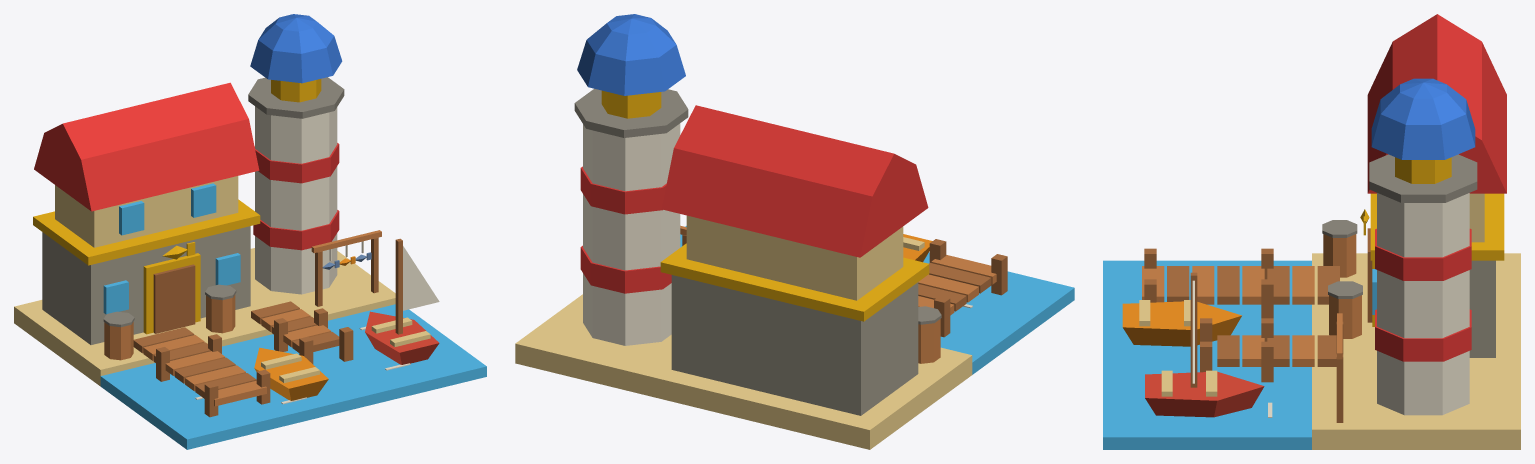
File: fishery_t3_v3.glb
The picture shows the model from 3 angles, left to right: view 1: azimuth 30°, elevation 25°; view 2: azimuth 150°, elevation 25°; view 3: azimuth 270°, elevation 25°; orthographic projection. The views are drawn at different scales.
Visible parts, largest first — view 1: fishery_t3_v3; view 2: fishery_t3_v3; view 3: fishery_t3_v3.
Boxes of the visible parts, x1=… form: fishery_t3_v3: x1=14, y1=14, x2=486, y2=449; fishery_t3_v3: x1=515, y1=14, x2=1074, y2=449; fishery_t3_v3: x1=1103, y1=14, x2=1520, y2=449.
Bounding box in the file's own units: 0.75 × 0.66 × 0.75.
Materials: 1 (1 with a texture image).
